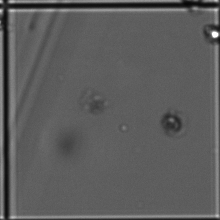Dead Cell: (158, 108, 184, 136)
Living Cell: (204, 21, 219, 48)
